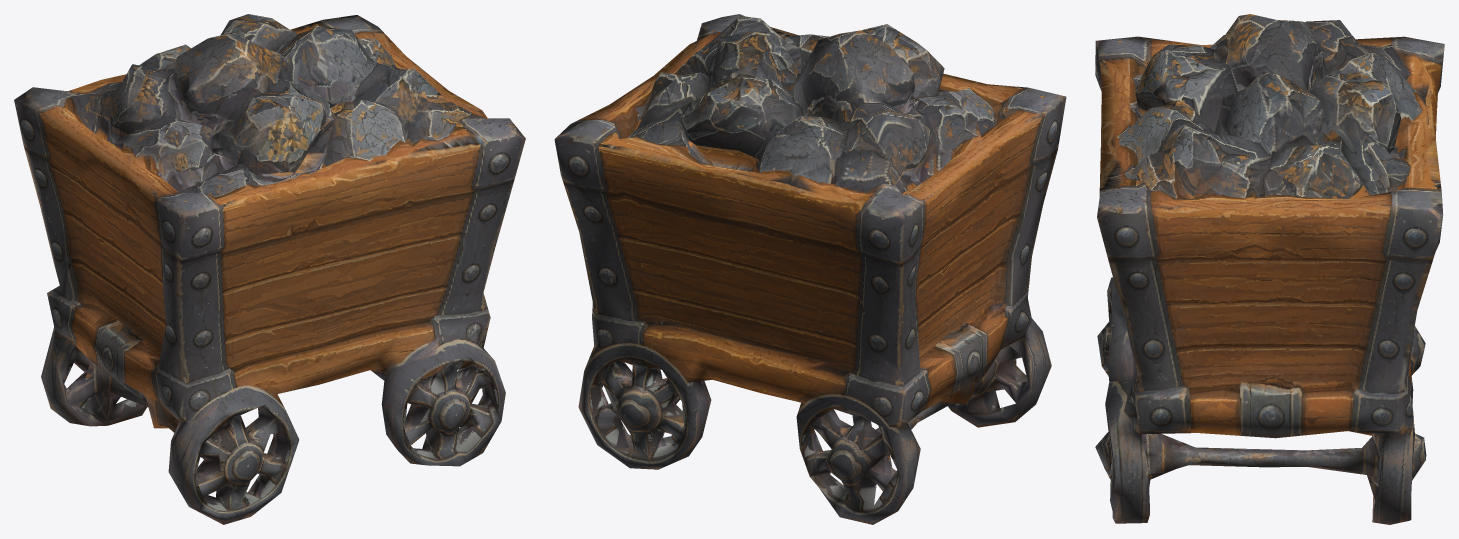
The model's file is OreCart.glb.
3 renders of one model, left to right at view 1: azimuth 30°, elevation 25°; view 2: azimuth 150°, elevation 25°; view 3: azimuth 270°, elevation 25°, orthographic. The views are drawn at different scales.
Visible parts, largest first — view 1: texture_mapping; view 2: texture_mapping; view 3: texture_mapping.
Part boxes in pixels (box(x1,y1,x2,y2)): texture_mapping: box(14, 14, 525, 524); texture_mapping: box(554, 14, 1066, 524); texture_mapping: box(1095, 14, 1444, 524).
Size of the model in its own units: 0.8707 by 0.9902 by 0.7278.
Materials: 1 (1 with a texture image).
